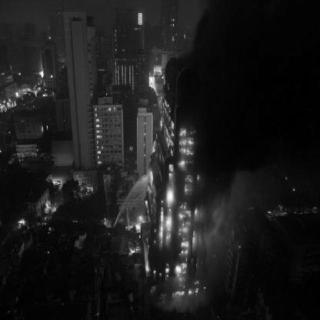other: (262, 199, 304, 217)
